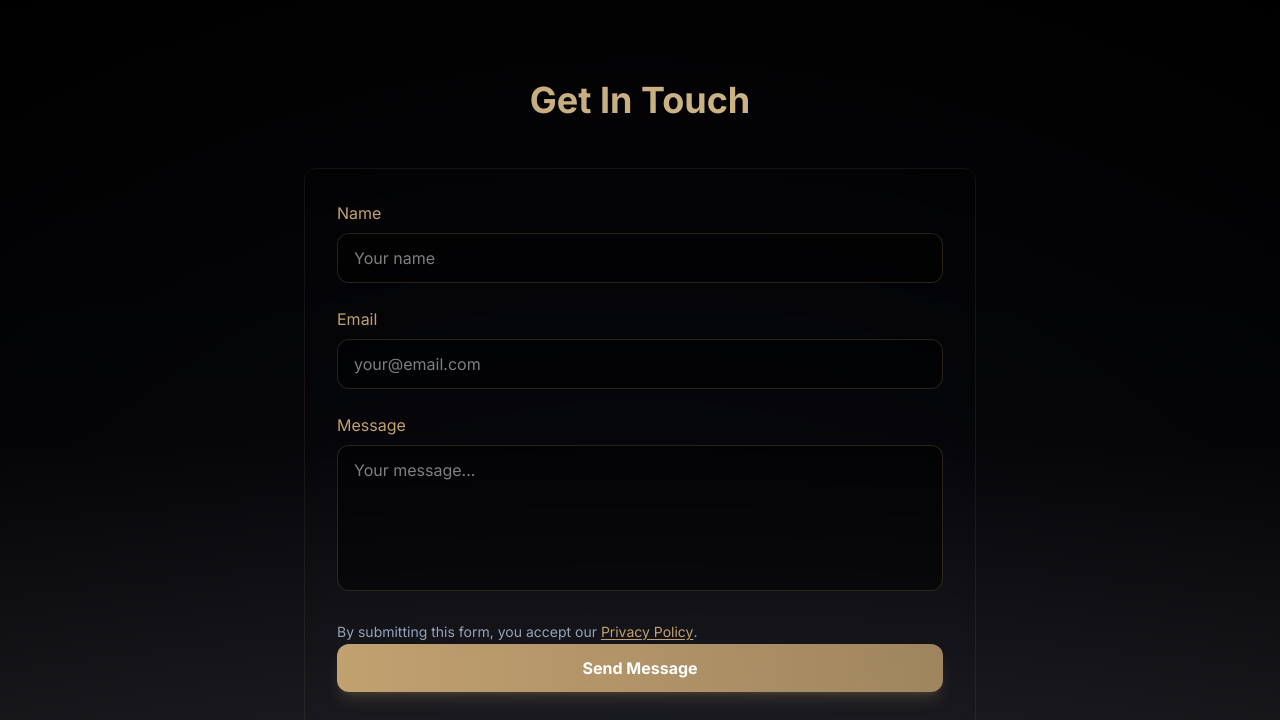
Test: Contact Component › Form Submission with API URL from Environment Variable › sends form data to the environment variable API URL and shows success
Step 1. Type "Test User" into the field labelled "Name" → (640, 258), box [337,233,943,283]
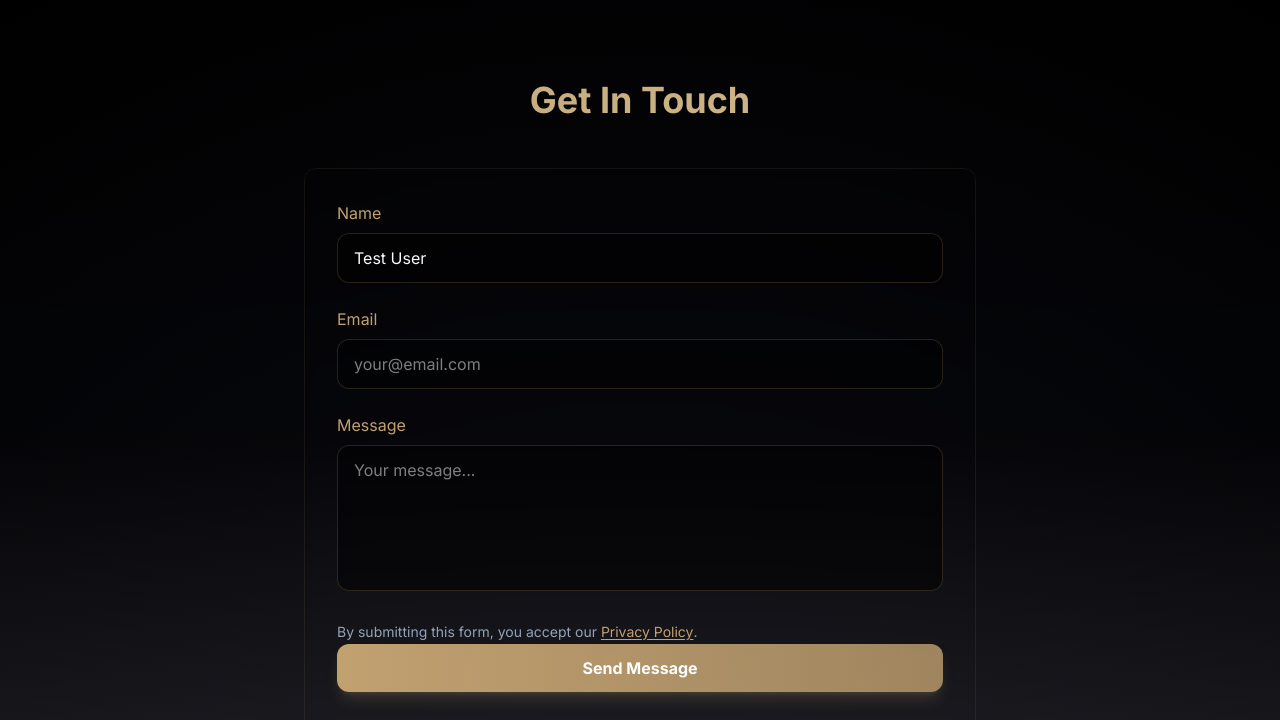
Step 2. Type "test@example.com" into the field labelled "Email" → (640, 364), box [337,339,943,389]
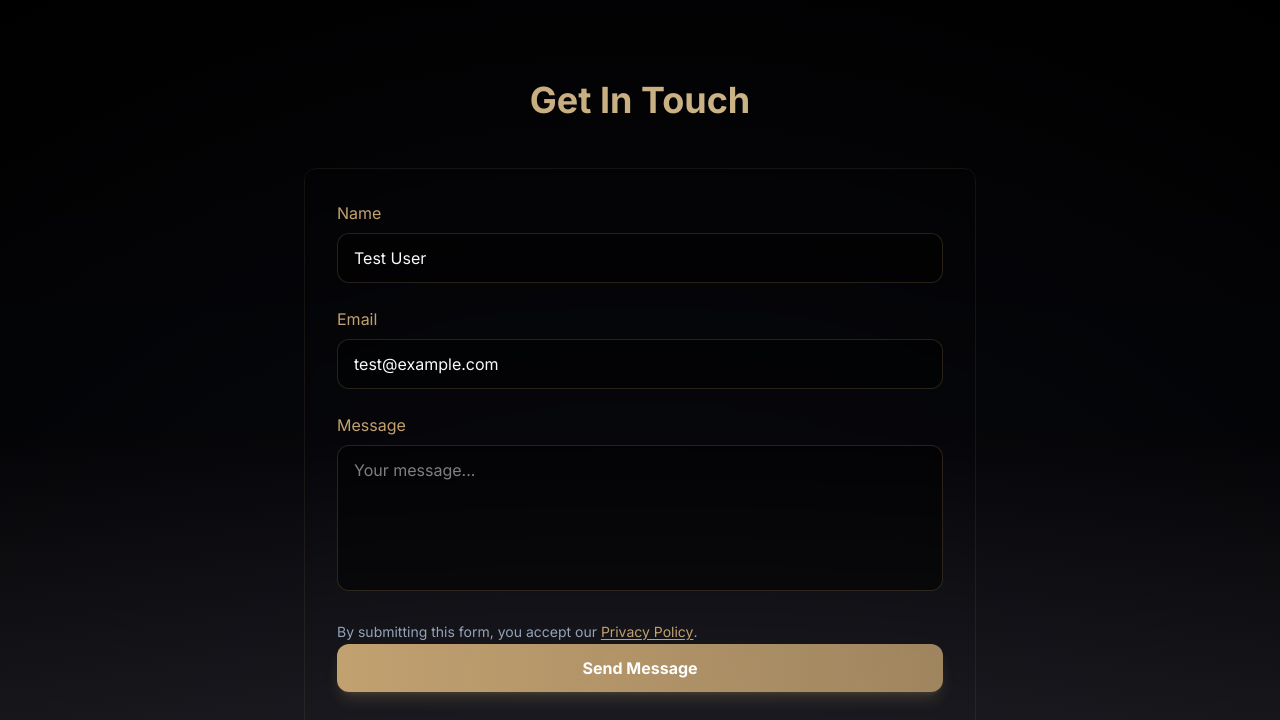
Step 3. Type "Test message" into the text box labelled "Message" → (640, 518), box [337,445,943,591]
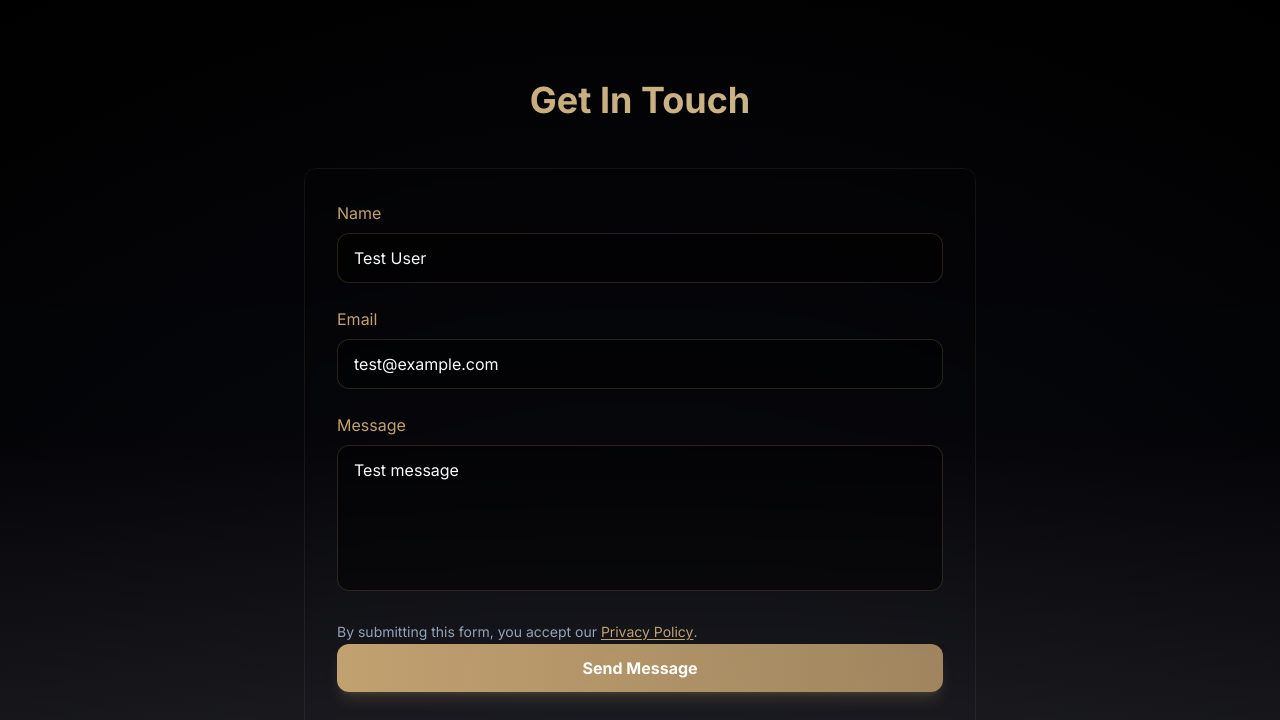
Step 4. Click the button "Send Message" → (640, 668), box [337,644,943,692]
(page scrolled)
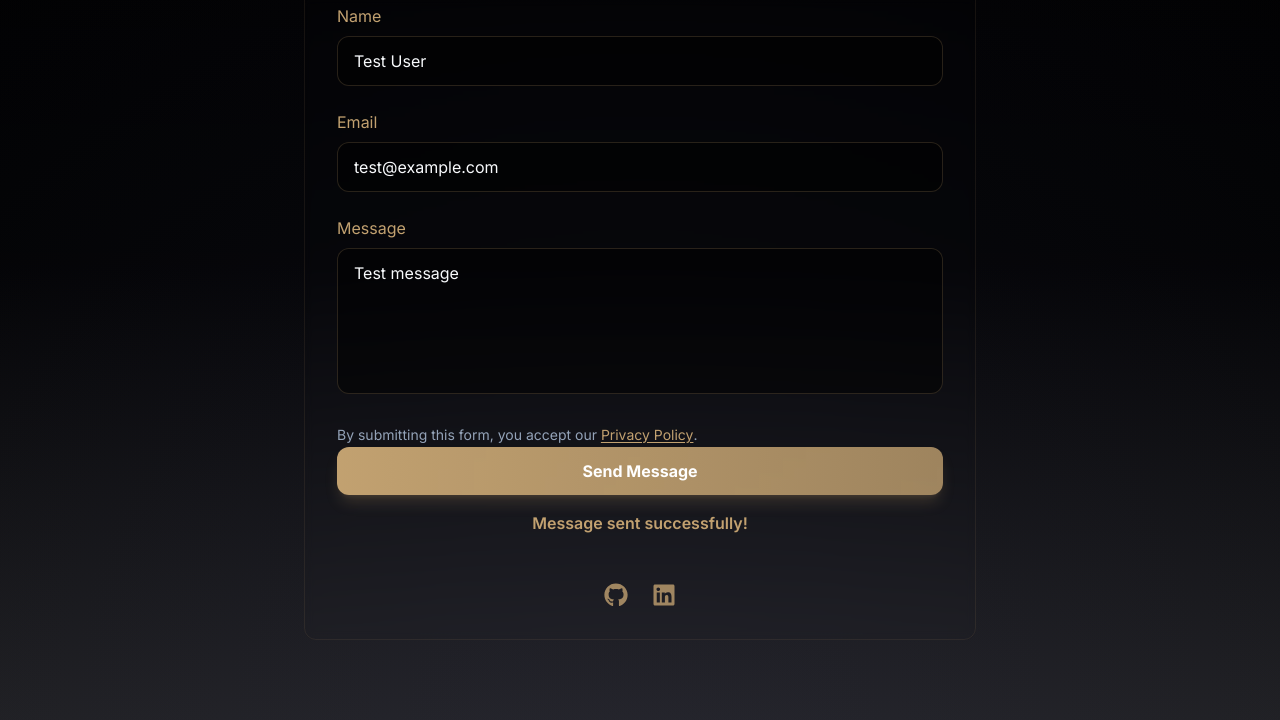
Check: the text "Message sent successfully!" is shown, box [532,513,748,533]
